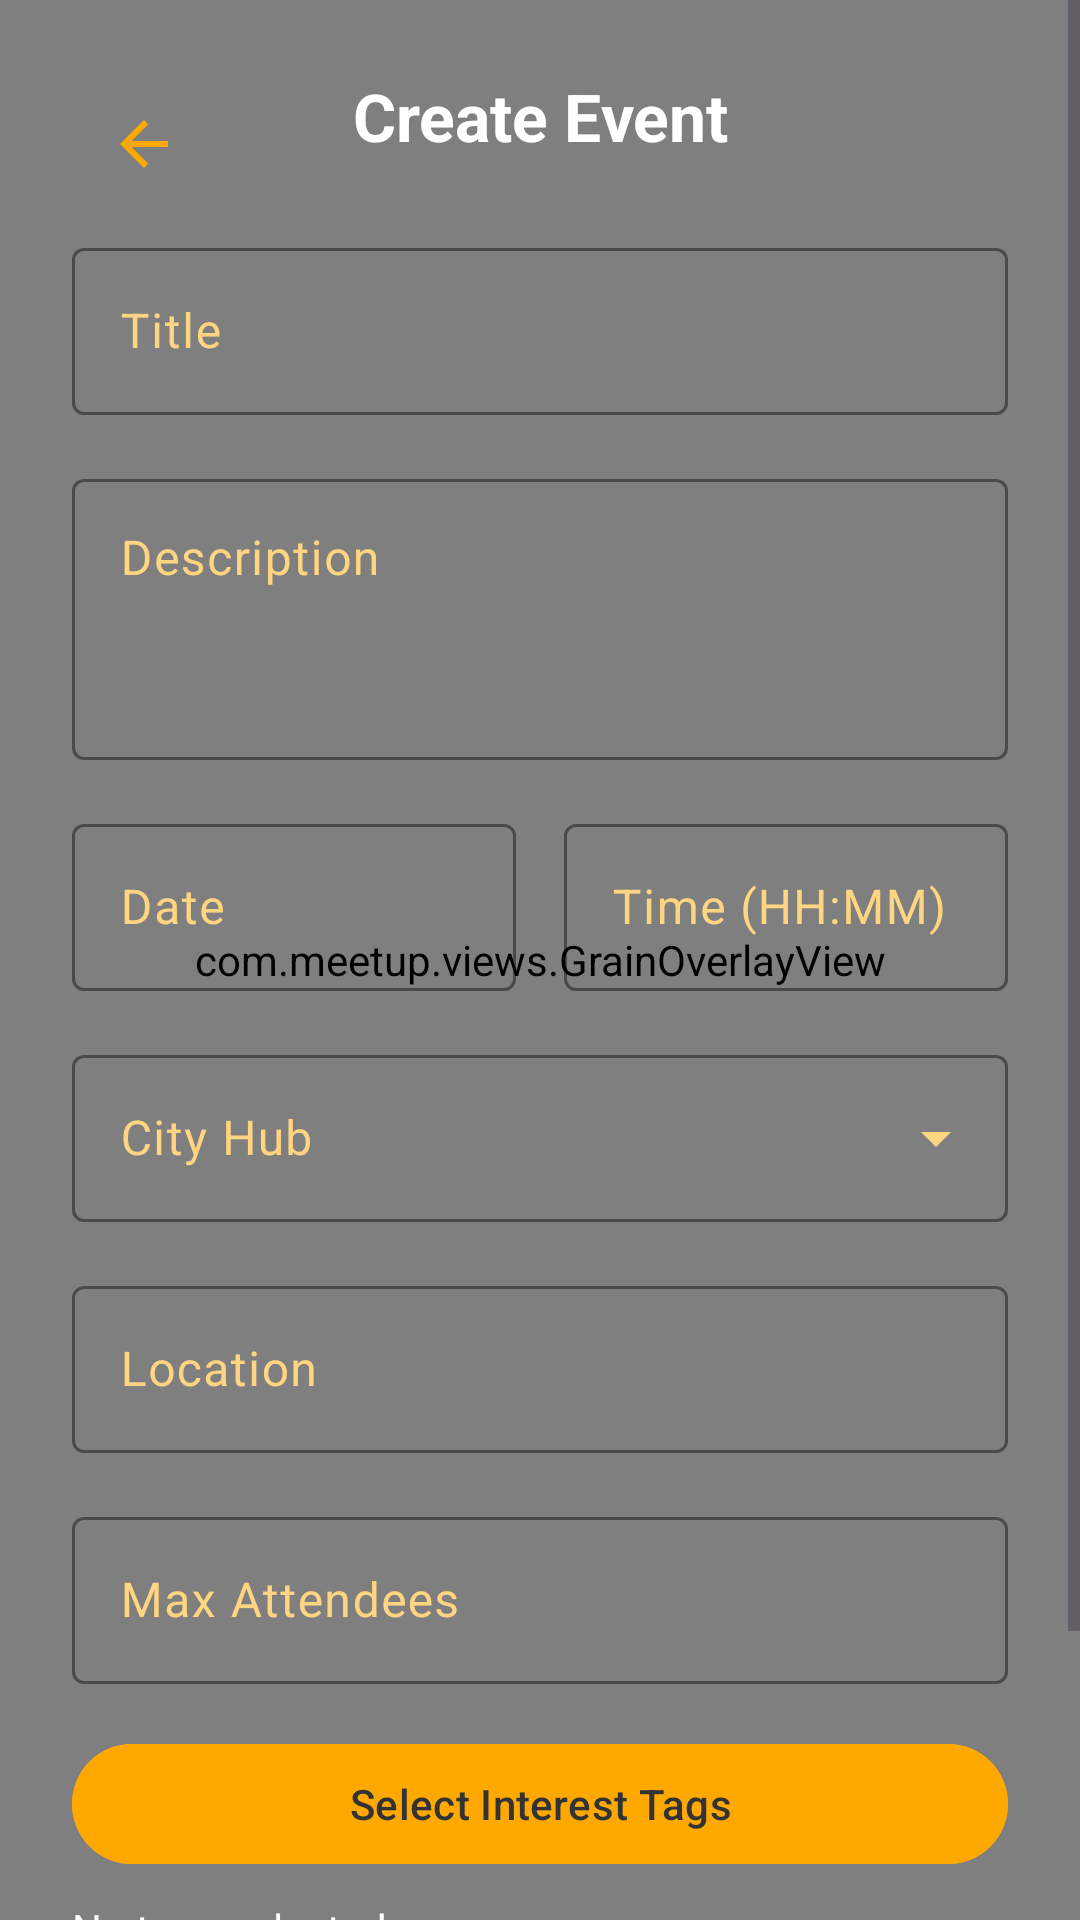

Named icons in this screenshot (1080 x 1920) and their bounding boxes, (x1, y1, x2, y2):
Back: (120, 120, 168, 168)
